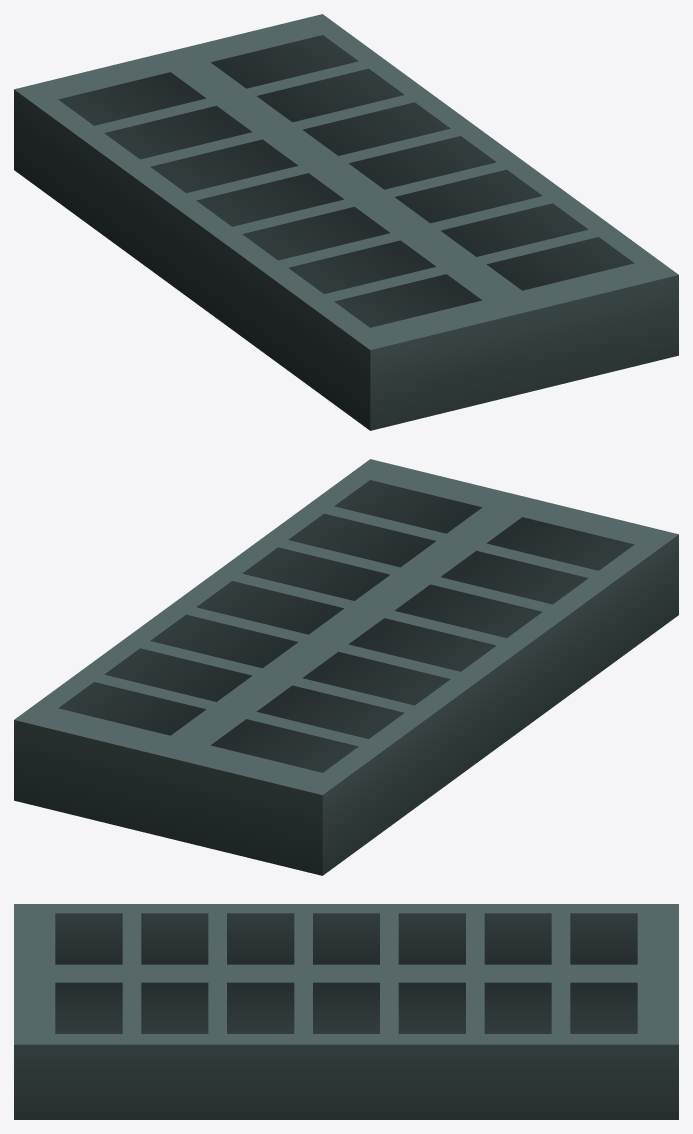
The model's file is Manhole_1A.fbx.
3 renders of one model, top to bottom at view 1: azimuth 30°, elevation 25°; view 2: azimuth 150°, elevation 25°; view 3: azimuth 270°, elevation 25°, orthographic. The views are drawn at different scales.
Parts seen in each view (by area): view 1: Manhole_1A; view 2: Manhole_1A; view 3: Manhole_1A.
Part boxes in pixels (left/top/right/bottom): Manhole_1A: left=14, top=14, right=678, bottom=430; Manhole_1A: left=14, top=459, right=678, bottom=875; Manhole_1A: left=14, top=904, right=678, bottom=1119.
Bounding box in the file's own units: 80 × 20.18 × 160.
